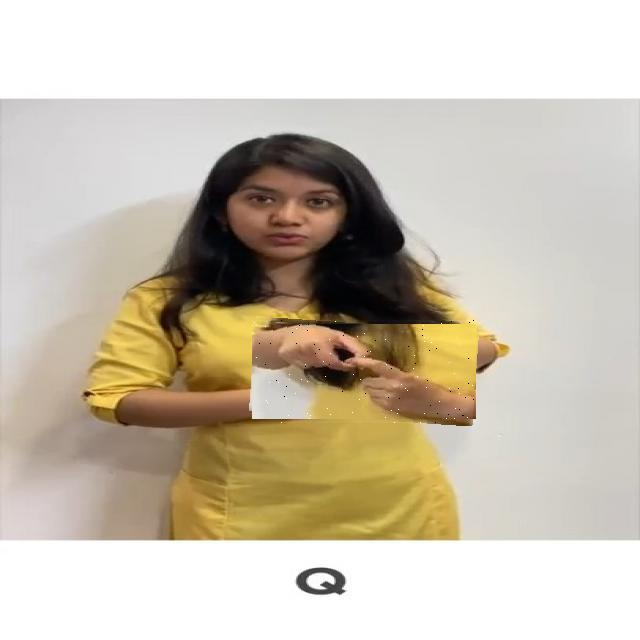Q: (251, 320, 477, 423)
